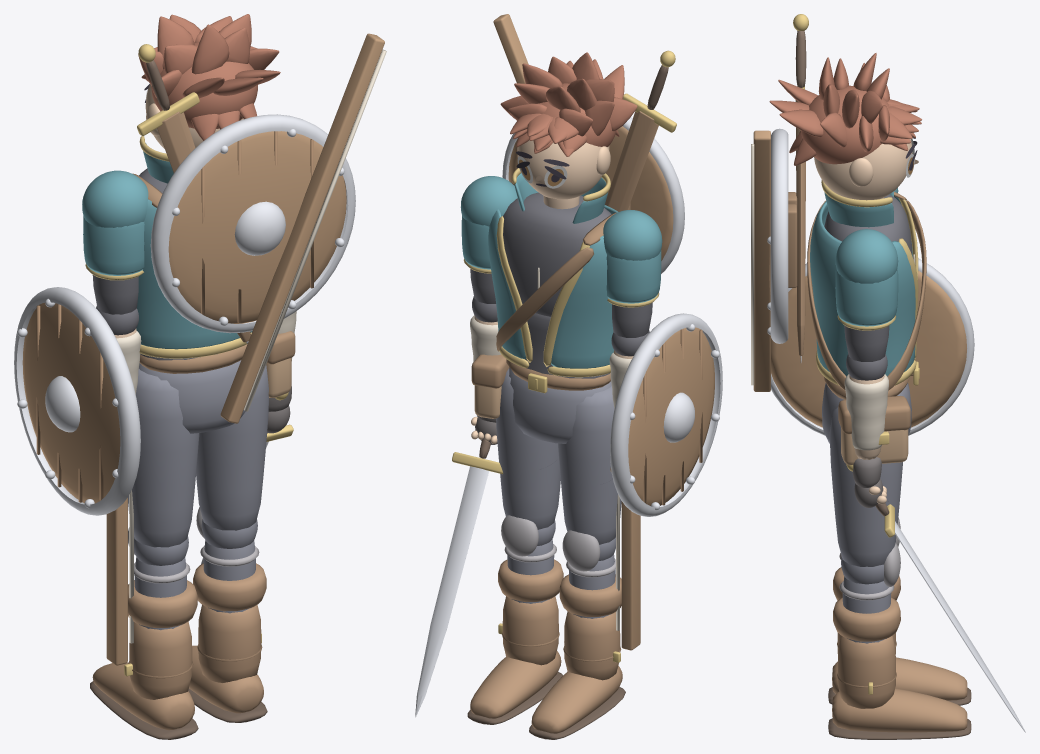
The model's file is heroi_anime.fbx.
The picture shows the model from 3 angles, left to right: view 1: azimuth 30°, elevation 25°; view 2: azimuth 150°, elevation 25°; view 3: azimuth 270°, elevation 25°; orthographic projection. The views are drawn at different scales.
Visible parts, largest first — view 1: Tórax~Escudo Costas Tábuas@wood, Cotovelo E~Escudo Tábuas@wood, Perna E~Coxa E@pants, Tórax~Arco Costas@wood, Tórax~Escudo Costas Aro@steel, Cotovelo E~Escudo Aro@steel, Perna D~Coxa D@pants, Joelho D~Bota Cano D@boots, Tórax~Jaqueta@tunic, Joelho E~Bota Cano E@boots, Pulso E~Arco@wood, Quadril~Pelve@pants (+30 smaller); view 2: Cotovelo E~Escudo Tábuas@wood, Tórax~Jaqueta@tunic, Perna E~Coxa E@pants, Tórax~Peito@shirt, Cotovelo E~Escudo Aro@steel, Perna D~Coxa D@pants, Pulso D~Arma Lâmina@steel, Quadril~Pelve@pants, Tornozelo E~Bota Pé E@boots, Tornozelo D~Bota Pé D@boots, Joelho D~Bota Cano D@boots, Joelho E~Bota Cano E@boots (+45 smaller); view 3: Cotovelo E~Escudo Tábuas@wood, Tórax~Jaqueta@tunic, Perna D~Coxa D@pants, Tórax~Arco Costas@wood, Tornozelo D~Bota Pé D@boots, Tórax~Escudo Costas Aro@steel, Joelho D~Bota Cano D@boots, Cabeça~Crânio@skin, Braço D~Ombro D@tunic, Braço D~Manga Jaqueta D@tunic, Cotovelo D~Faixa D@cream, Cotovelo E~Escudo Aro@steel (+30 smaller).
Boxes of the visible parts, x1,y1,x2,y2 form: Tórax~Escudo Costas Tábuas@wood: (168,131,346,323); Cotovelo E~Escudo Tábuas@wood: (22,303,120,503); Perna E~Coxa E@pants: (128,368,199,547); Tórax~Arco Costas@wood: (220,33,384,423); Tórax~Escudo Costas Aro@steel: (150,114,355,333); Cotovelo E~Escudo Aro@steel: (14,287,140,515); Perna D~Coxa D@pants: (196,365,268,530); Joelho D~Bota Cano D@boots: (198,604,261,682); Tórax~Jaqueta@tunic: (136,199,252,349); Joelho E~Bota Cano E@boots: (129,621,192,699); Pulso E~Arco@wood: (106,497,127,665); Quadril~Pelve@pants: (139,360,245,433); Cotovelo E~Escudo Tábuas@wood: (628,327,714,505); Tórax~Jaqueta@tunic: (488,205,618,368); Perna E~Coxa E@pants: (558,386,621,544); Tórax~Peito@shirt: (503,192,611,316); Cotovelo E~Escudo Aro@steel: (610,313,722,516); Perna D~Coxa D@pants: (496,368,560,529); Pulso D~Arma Lâmina@steel: (415,466,488,717); Quadril~Pelve@pants: (509,367,611,443); Tornozelo E~Bota Pé E@boots: (531,665,622,733); Tornozelo D~Bota Pé D@boots: (470,651,561,718); Joelho D~Bota Cano D@boots: (502,596,558,665); Joelho E~Bota Cano E@boots: (564,611,620,680); Cotovelo E~Escudo Tábuas@wood: (771,271,966,427); Tórax~Jaqueta@tunic: (810,196,915,376); Perna D~Coxa D@pants: (829,407,902,566); Tórax~Arco Costas@wood: (753,130,770,391); Tornozelo D~Bota Pé D@boots: (832,688,967,732); Tórax~Escudo Costas Aro@steel: (770,128,788,343); Joelho D~Bota Cano D@boots: (837,635,895,708); Cabeça~Crânio@skin: (814,139,912,200); Braço D~Ombro D@tunic: (835,229,898,283); Braço D~Manga Jaqueta D@tunic: (835,268,898,326); Cotovelo D~Faixa D@cream: (844,374,888,450); Cotovelo E~Escudo Aro@steel: (771,258,974,435).
Bounding box in the file's own units: 0.755 × 1.89 × 0.7096.
